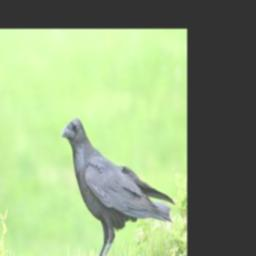Crow: (61, 116, 176, 256)
